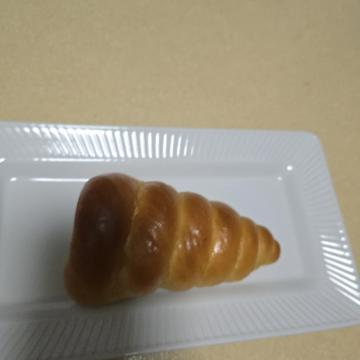cream horn: (166, 66, 326, 307)
